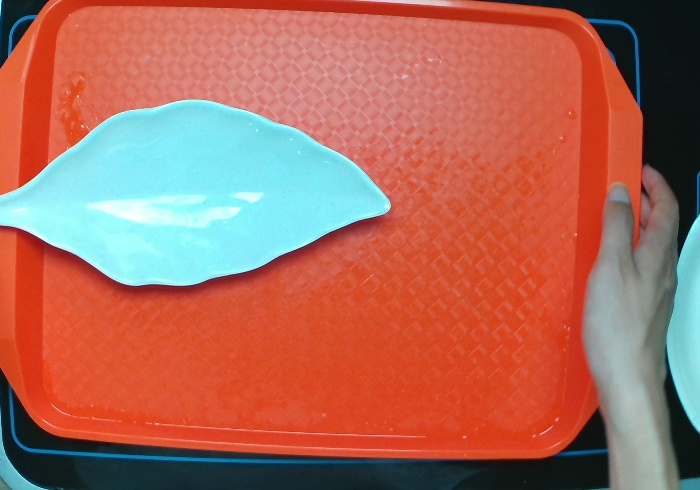RJxy-Shu_Ye_Pan: (2, 95, 396, 298)
